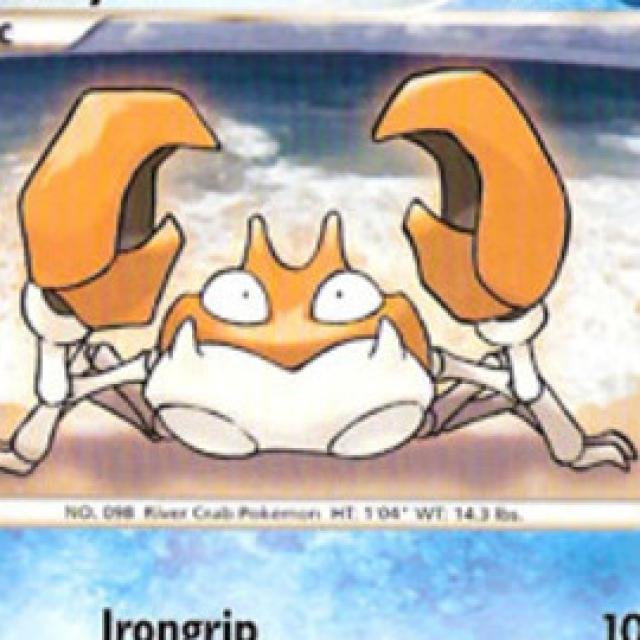Krabby: (2, 64, 629, 500)
